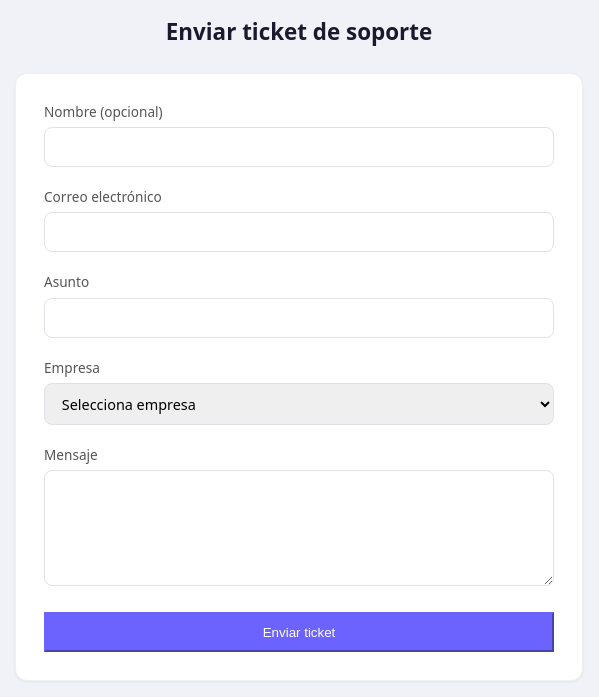
Scenario: NuevoTicket › shows success message after submission
expect the heading "Enviar ticket de soporte" is shown: met, box [166,16,432,47]
In the field below "Correo electrónico": (299, 232) [44,212,554,252], type "test@test.com"
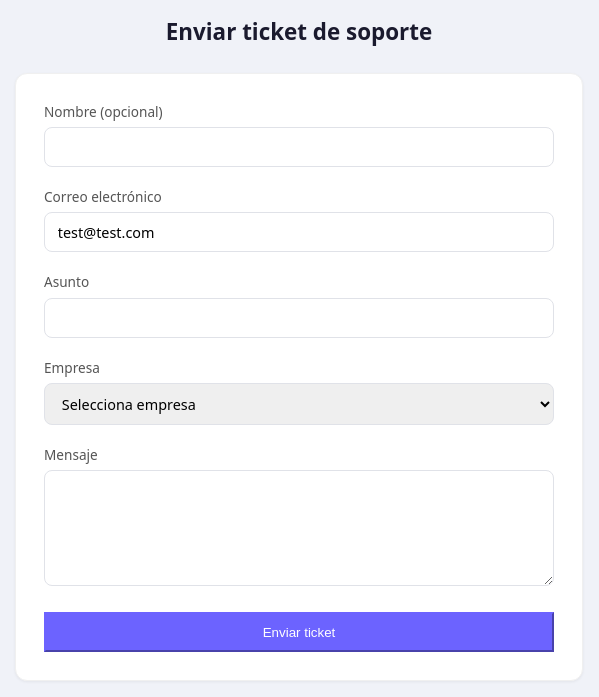
In the field below "Asunto": (299, 318) [44,298,554,338], type "Asunto test"
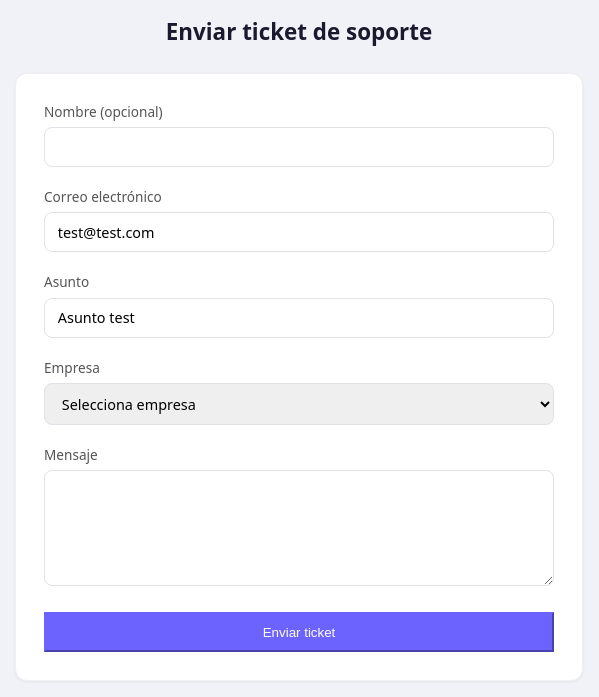
In the text box: (299, 528) [44,470,554,586], type "Mensaje test"
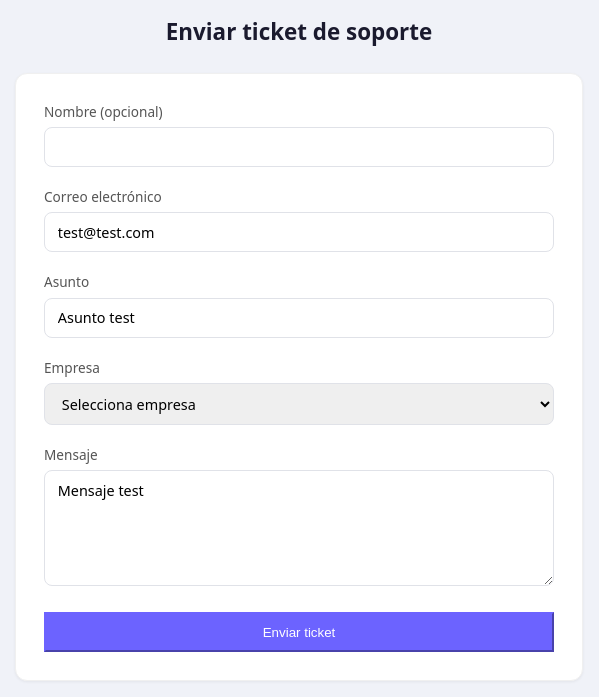
Select "TestCorp" in the dropdown: (299, 404) [44,383,554,425]
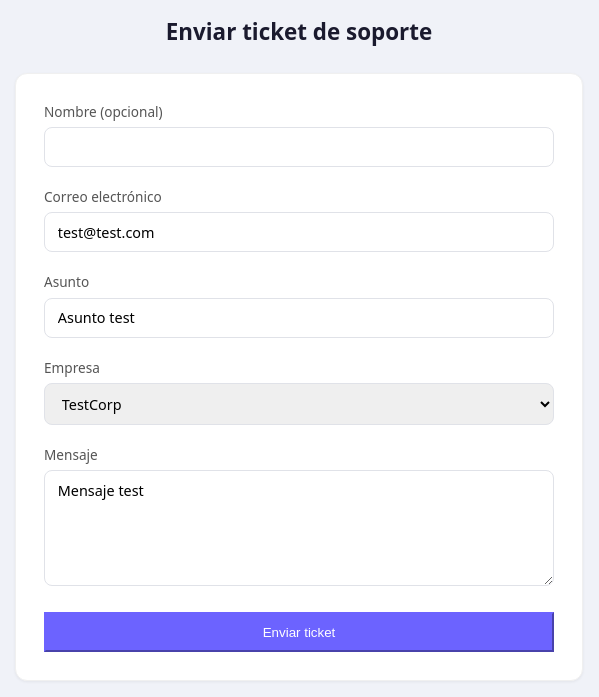
Click the button "Enviar ticket": click(299, 632) [44,612,554,652]
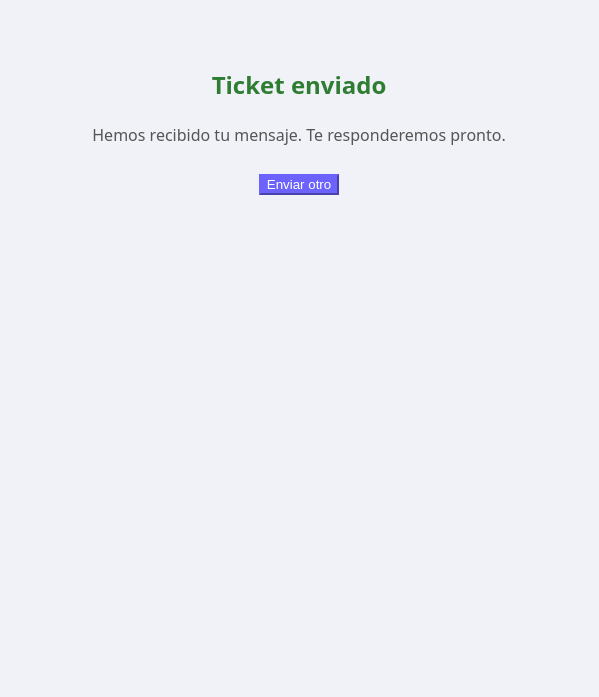
expect the heading "Ticket enviado" is shown: met, box [212,68,386,101]
